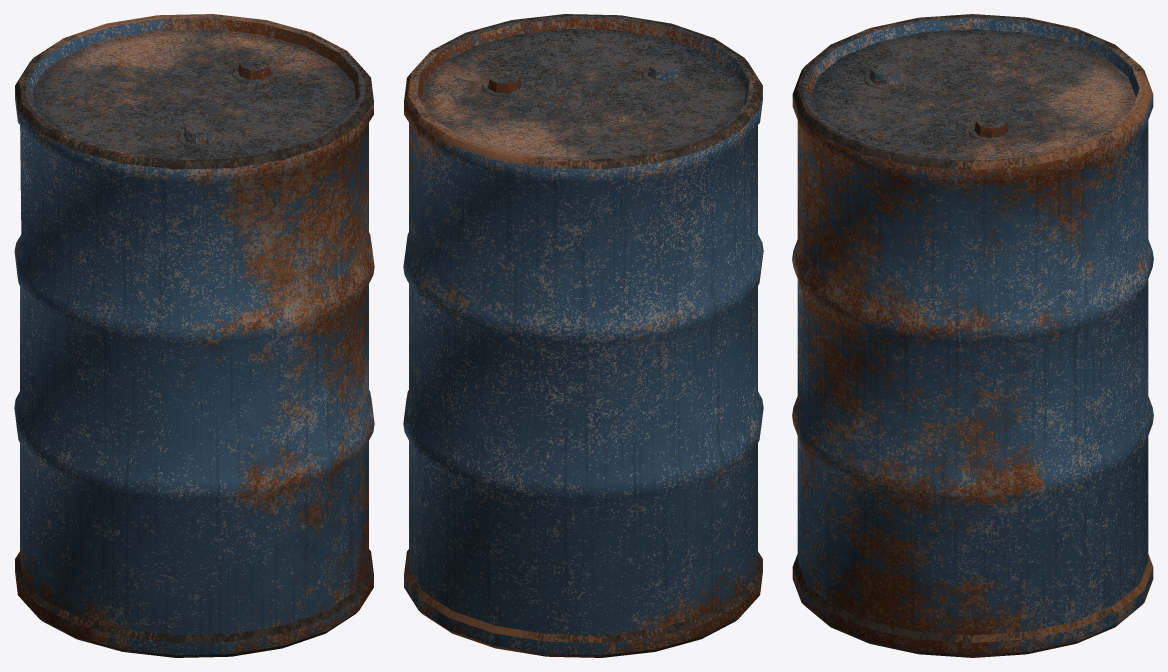
File: barrel.glb
The picture shows the model from 3 angles, left to right: view 1: azimuth 30°, elevation 25°; view 2: azimuth 150°, elevation 25°; view 3: azimuth 270°, elevation 25°; orthographic projection.
Parts seen in each view (by area): view 1: barrel; view 2: barrel; view 3: barrel.
Boxes of the visible parts, box(x1,y1,x2,y2) form: barrel: box(14, 14, 374, 657); barrel: box(403, 14, 763, 657); barrel: box(792, 14, 1153, 657).
Size of the model in its own units: 0.585 by 0.886 by 0.586.
1 material, 1 textured.
